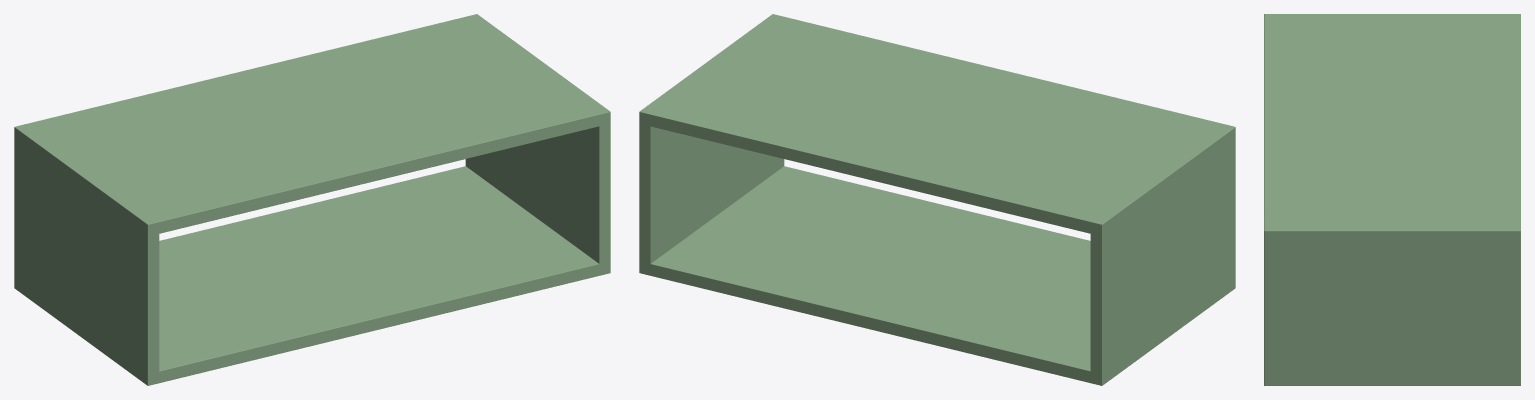
The model's file is MOD-2X07-A-O-SA.glb.
3 views of the same model, side by side, from view 1: azimuth 30°, elevation 25°; view 2: azimuth 150°, elevation 25°; view 3: azimuth 270°, elevation 25° (orthographic). The views are drawn at different scales.
Bounding box in the file's own units: 720 × 240 × 360.
